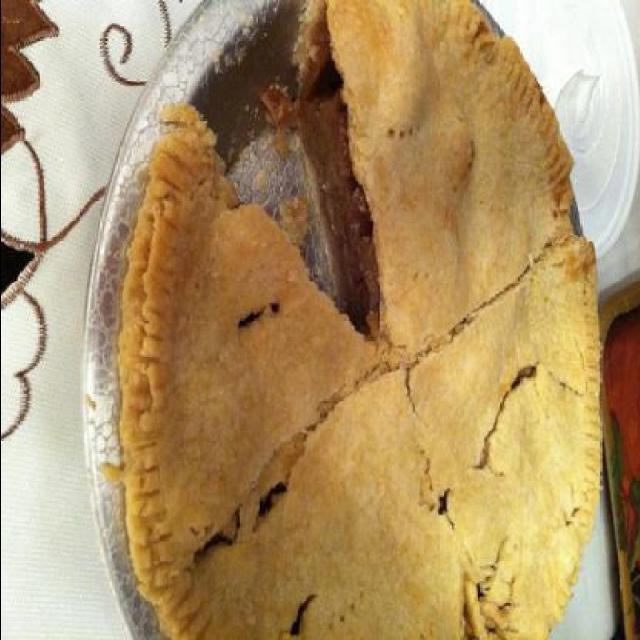Apple: (123, 3, 600, 634)
